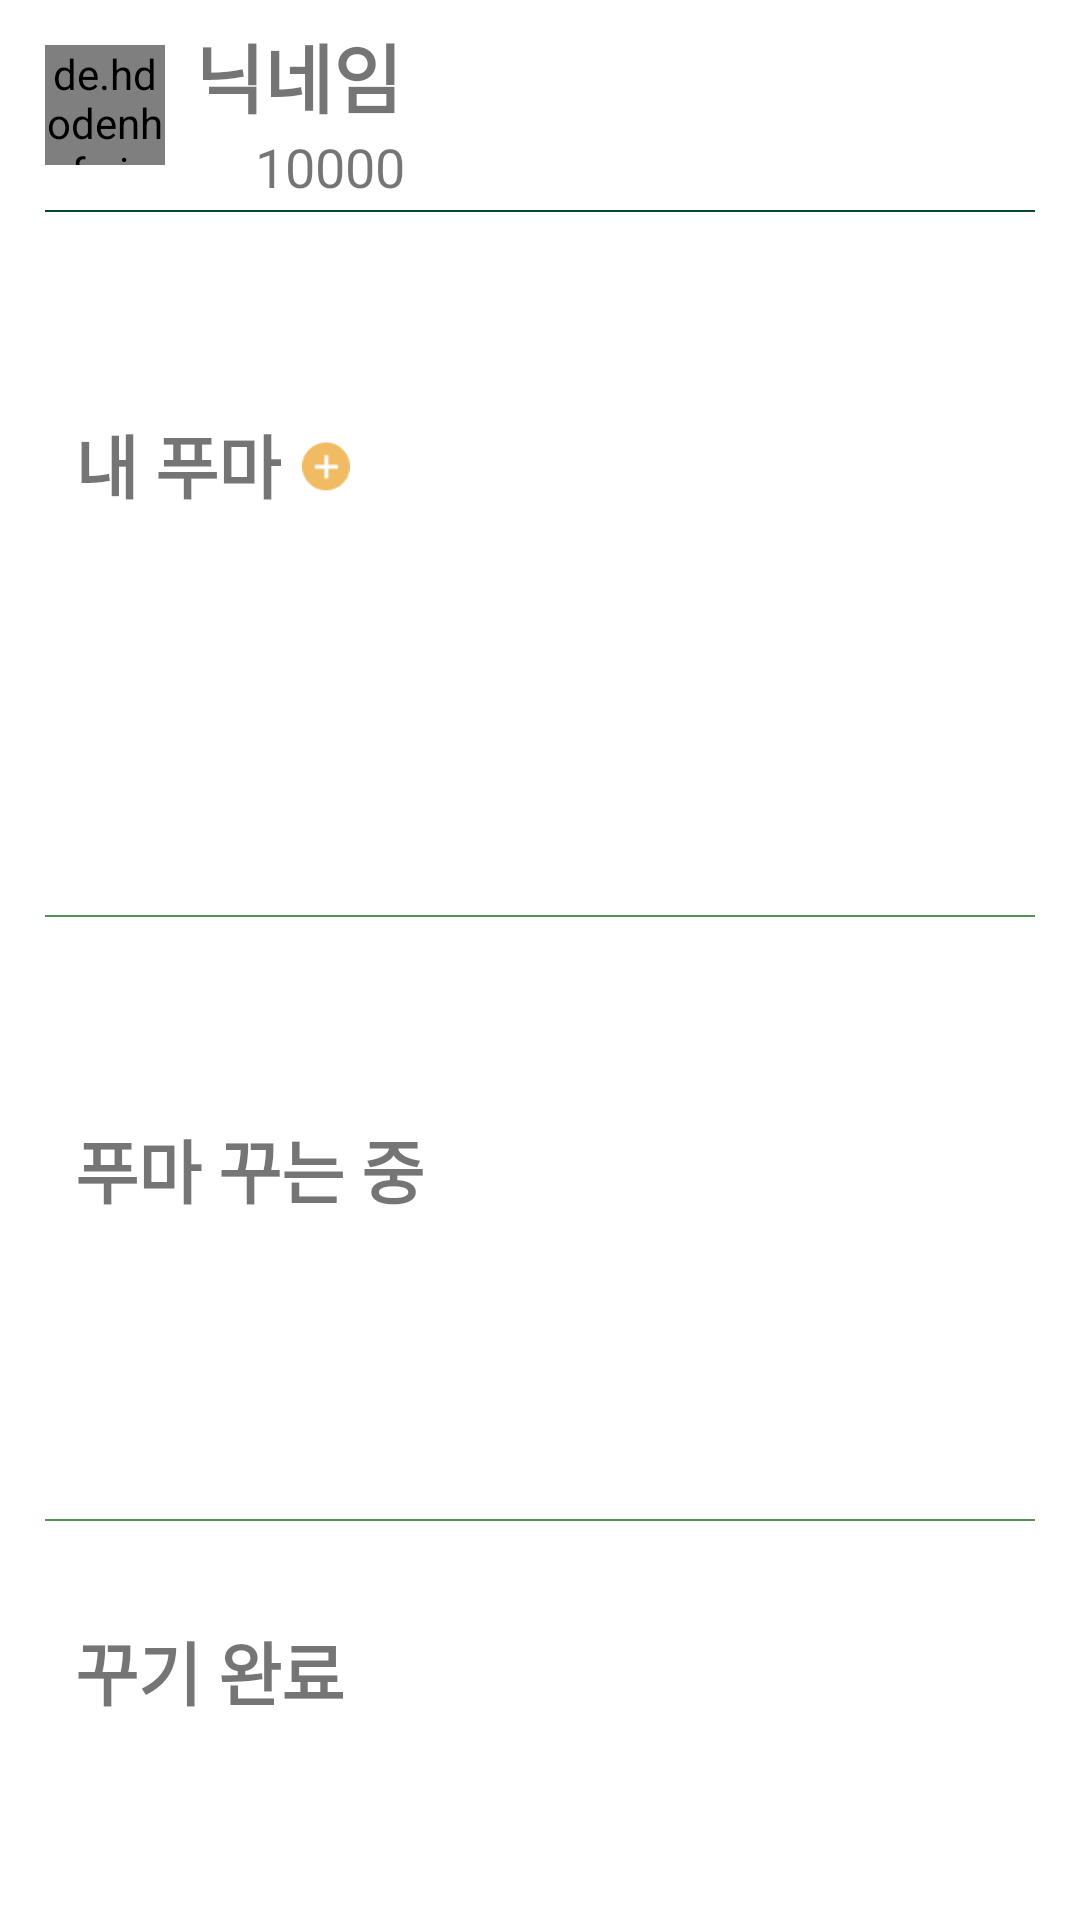

Icon click points for this 1080 x 1920 phone screenshot, format [x,y]:
plus: [326,466]
